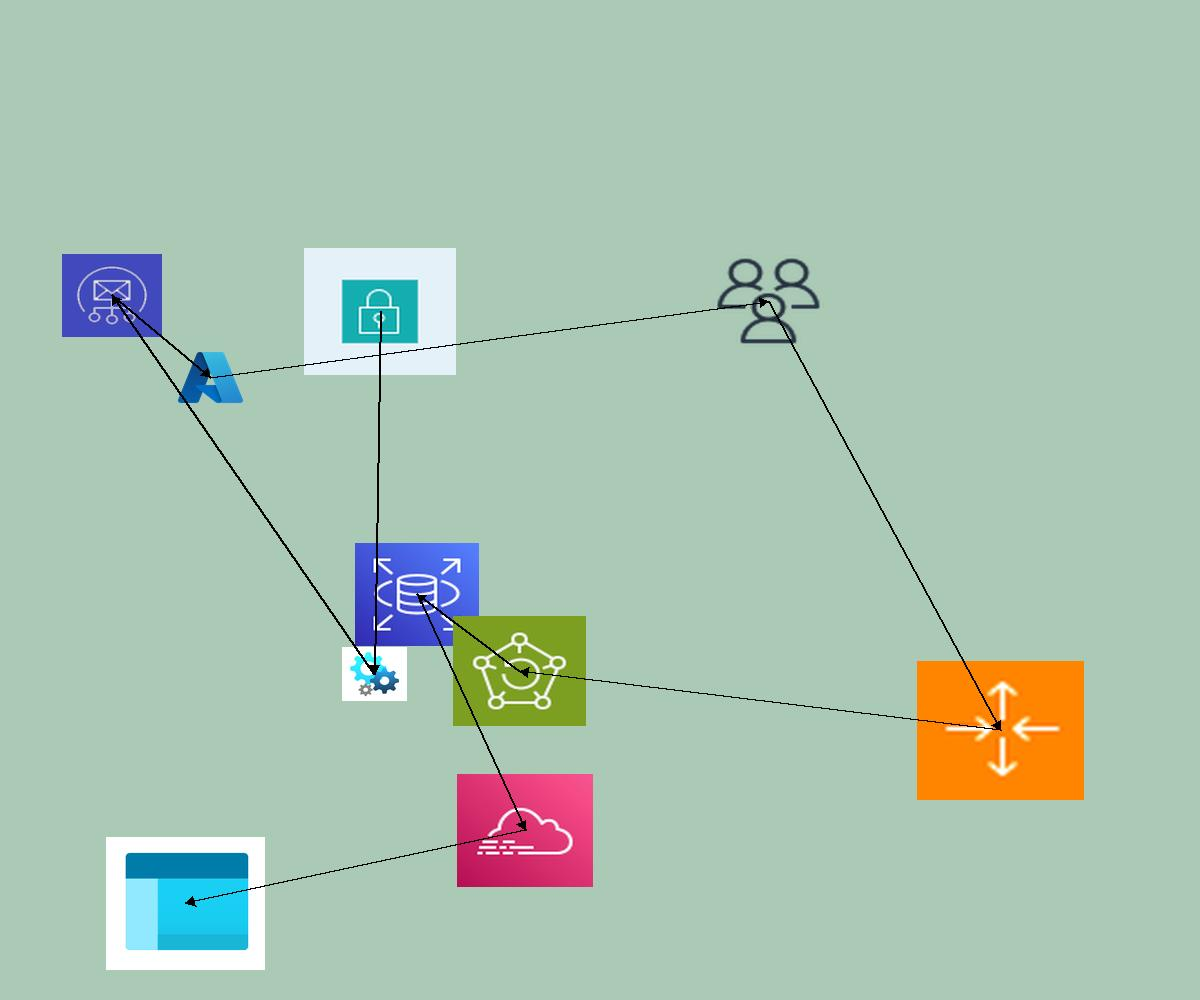AWS-Backup: (453, 616, 586, 726)
AWS-CloudTrail: (457, 774, 593, 887)
AWS-Private-subnet: (304, 248, 456, 375)
AWS-RDS: (355, 543, 479, 646)
AWS-Res_Users: (713, 255, 824, 347)
AWS-Scaling-group: (917, 661, 1084, 800)
AWS-Simple-Email-Service: (62, 254, 162, 337)
Azure_api: (342, 647, 407, 701)
Azure_management-portal: (106, 837, 265, 970)
Azure_services: (175, 348, 246, 407)
